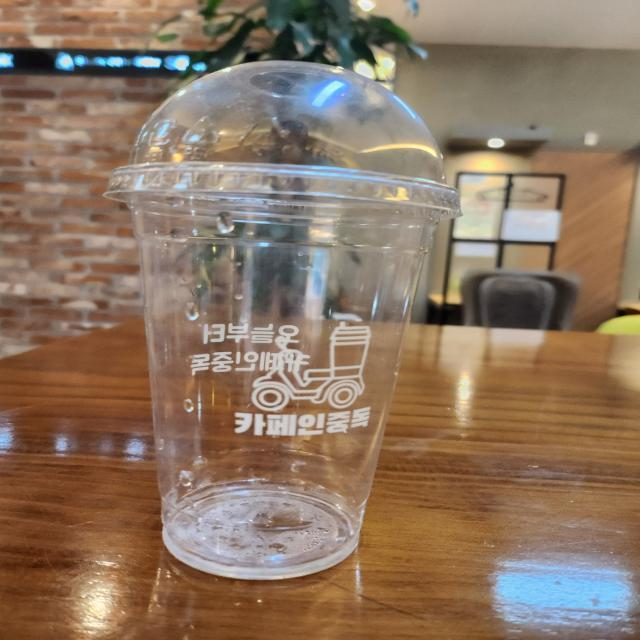plastic_cup_lid: (107, 56, 466, 234)
